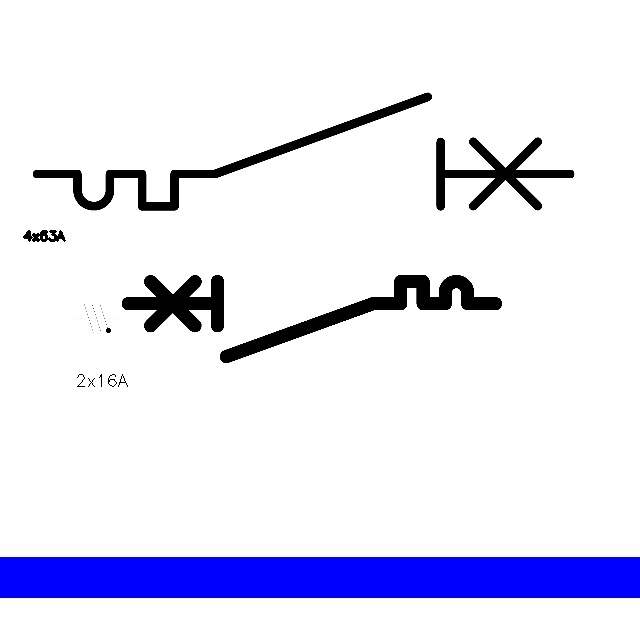interruptor_termomagnetico: (23, 83, 584, 220), (118, 272, 504, 366)
